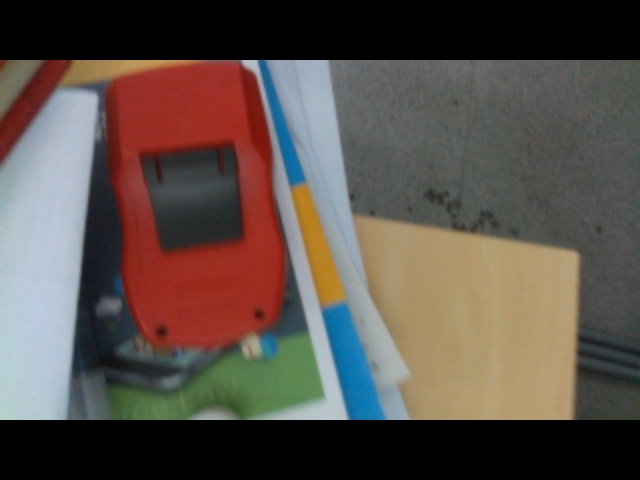Multimeter: (103, 61, 285, 354)
Screw holes: (153, 323, 170, 337), (252, 307, 266, 320)
